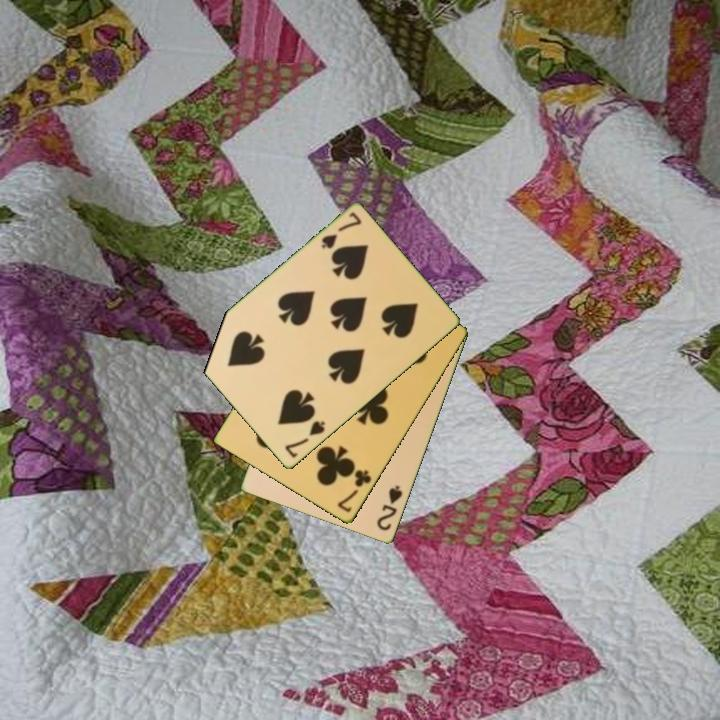2s: (373, 482, 406, 534)
7c: (334, 466, 374, 516)
7s: (281, 417, 328, 462), (318, 209, 364, 252)
